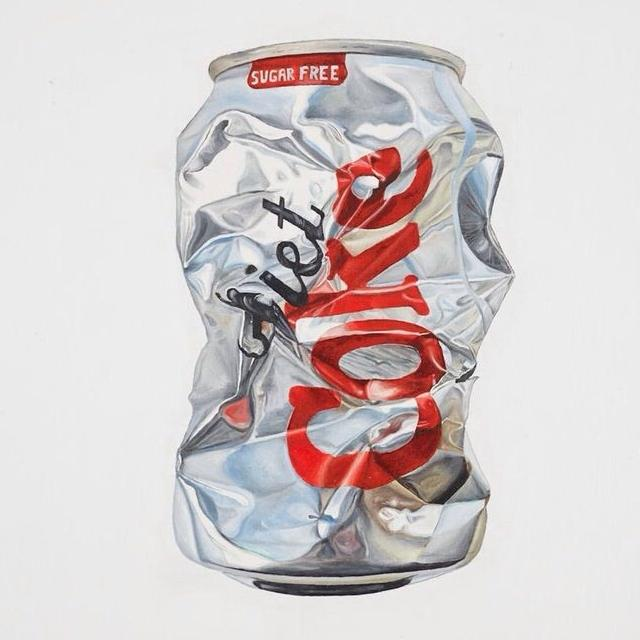metal: (122, 12, 529, 626)
